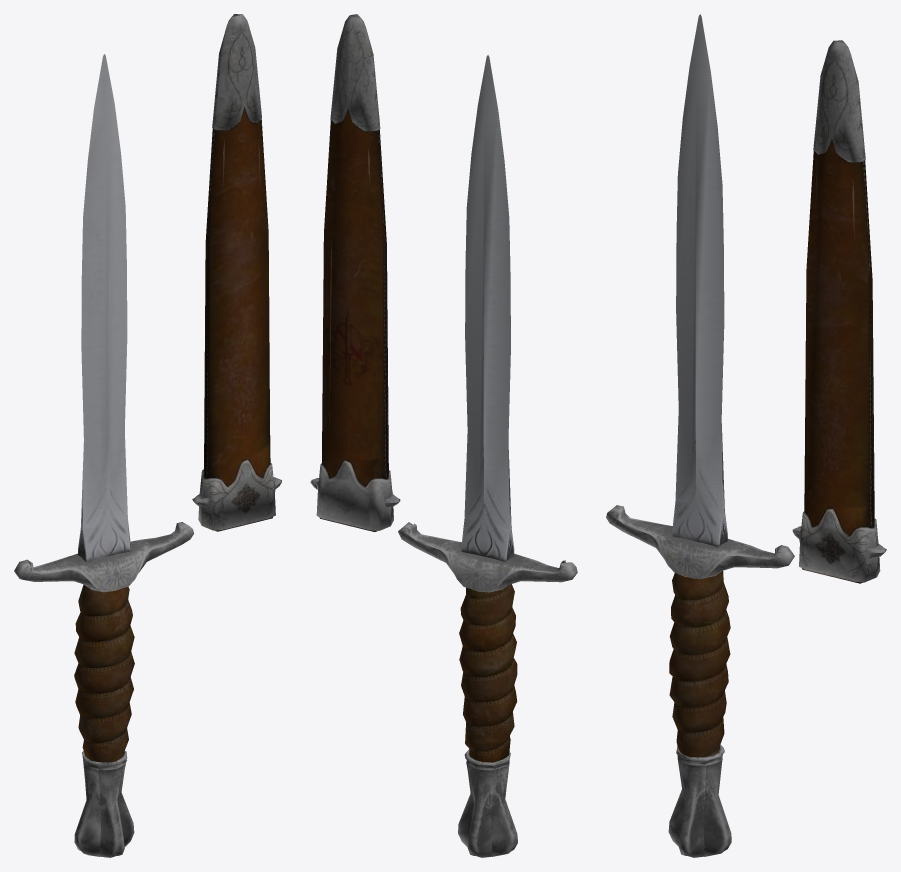
File: dagger_ornate.glb
3 renders of one model, left to right at view 1: azimuth 30°, elevation 25°; view 2: azimuth 150°, elevation 25°; view 3: azimuth 330°, elevation 25°, orthographic. The views are drawn at different scales.
Visible parts, largest first — view 1: ornate_medieval_dagger; view 2: ornate_medieval_dagger; view 3: ornate_medieval_dagger.
Boxes of the visible parts, bbox=[...] form: ornate_medieval_dagger: bbox=[14, 14, 281, 857]; ornate_medieval_dagger: bbox=[310, 14, 577, 857]; ornate_medieval_dagger: bbox=[606, 14, 886, 857].
Size of the model in its own units: 0.1204 by 0.349 by 0.0249.
Materials: 1 (1 with a texture image).
